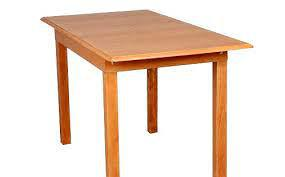desk: (33, 1, 256, 162)
